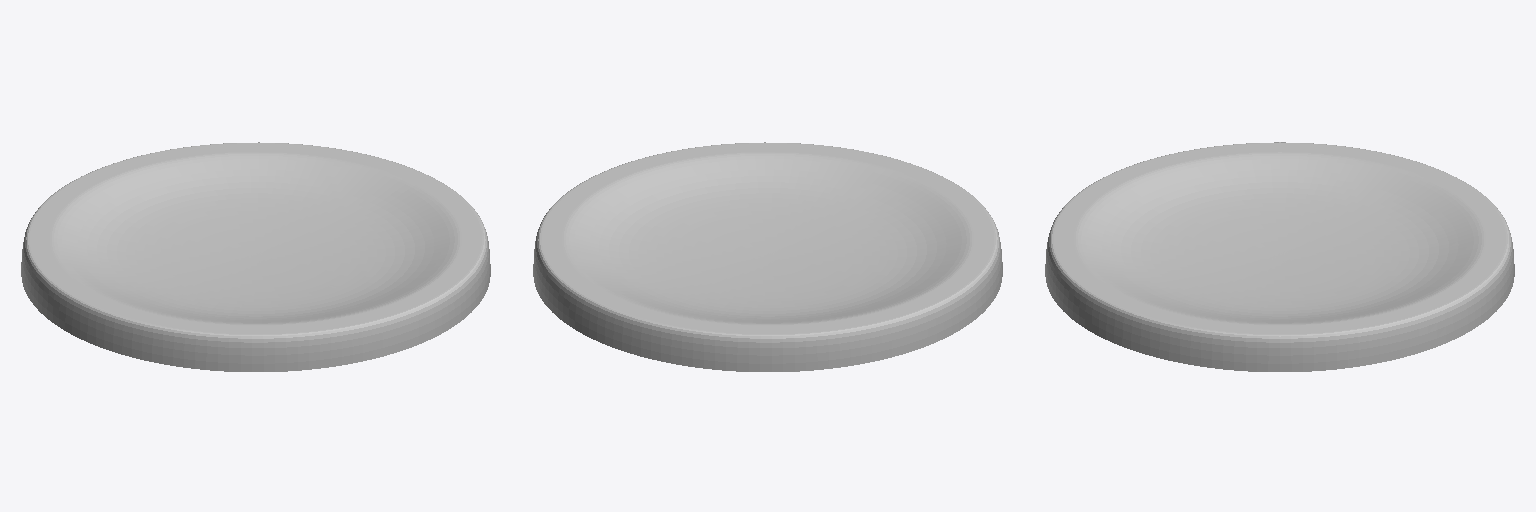
File: OthelloHalfPiece.obj
The picture shows the model from 3 angles: view 1: azimuth 30°, elevation 25°; view 2: azimuth 150°, elevation 25°; view 3: azimuth 270°, elevation 25°; orthographic projection.
Visible parts, largest first — view 1: Cylinder; view 2: Cylinder; view 3: Cylinder.
Boxes of the visible parts, x1=… form: Cylinder: x1=21, y1=142, x2=490, y2=371; Cylinder: x1=533, y1=142, x2=1002, y2=371; Cylinder: x1=1045, y1=142, x2=1514, y2=371.
Size of the model in its own units: 2 by 0.162 by 2.